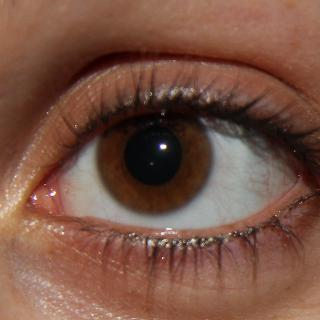pupil: (123, 126, 180, 184)
